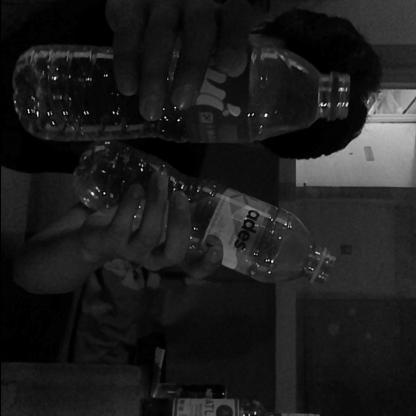plastic_bottles: (71, 140, 336, 286), (13, 44, 355, 142)
